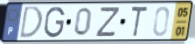0: (72, 6, 94, 38), (152, 5, 171, 38)
D: (18, 5, 44, 40)
G: (42, 5, 66, 39)
T: (130, 5, 149, 39)
Z: (94, 6, 122, 39)
